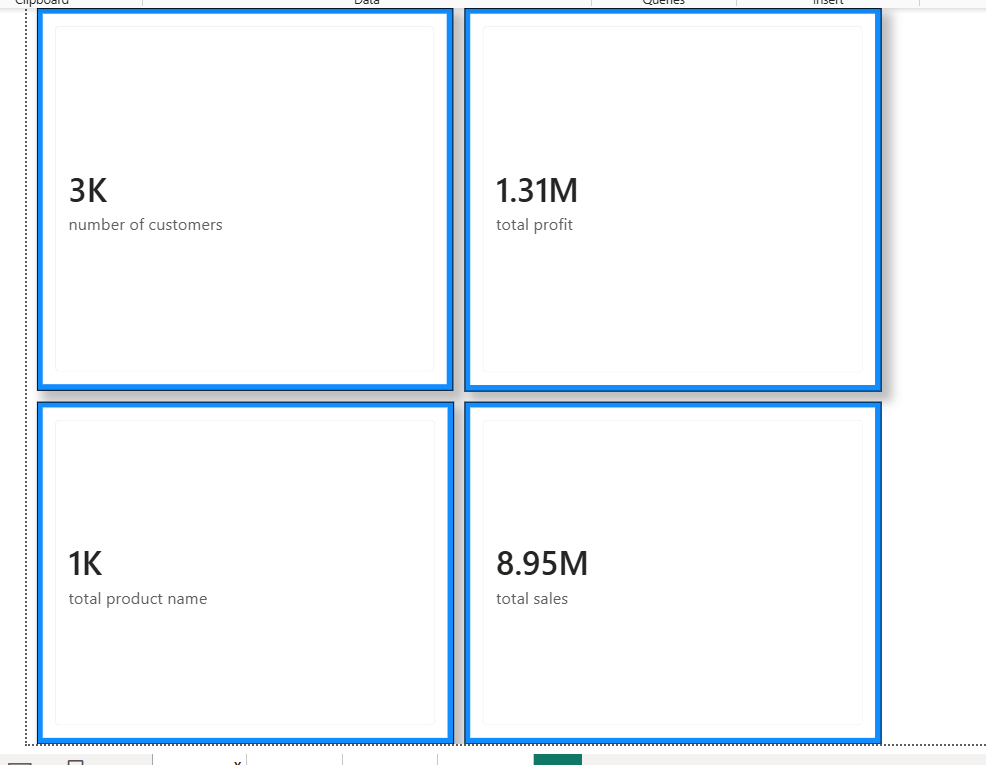

This screenshot's page, from the dashboard's own definition file:
{"tool":"powerbi","page":{"name":"Page 1","canvas":[1280,720],"ordinal":0},"visuals":[{"type":"cardVisual","fields":{"Data":["Date.number of customers"]},"box":[9.6,0,407.5,374.6],"z":0},{"type":"cardVisual","fields":{"Data":["Date.total product name"]},"box":[10,385,408,335],"z":1000},{"type":"cardVisual","fields":{"Data":["Date.total profit"]},"box":[428,0,408,375],"z":2000},{"type":"cardVisual","fields":{"Data":["Date.total sales"]},"box":[428,385,408,335],"z":3000}]}

Visuals, with their boxes on the page's 1280x720 design canvas (x1, y1, x2, y2). These are canvas units, not pixel positions in the 986x765 screenshot, which may show the page scaled, cropped or inside an application window:
cardVisual - Date.number of customers: [10, 0, 417, 375]
cardVisual - Date.total product name: [10, 385, 418, 720]
cardVisual - Date.total profit: [428, 0, 836, 375]
cardVisual - Date.total sales: [428, 385, 836, 720]
